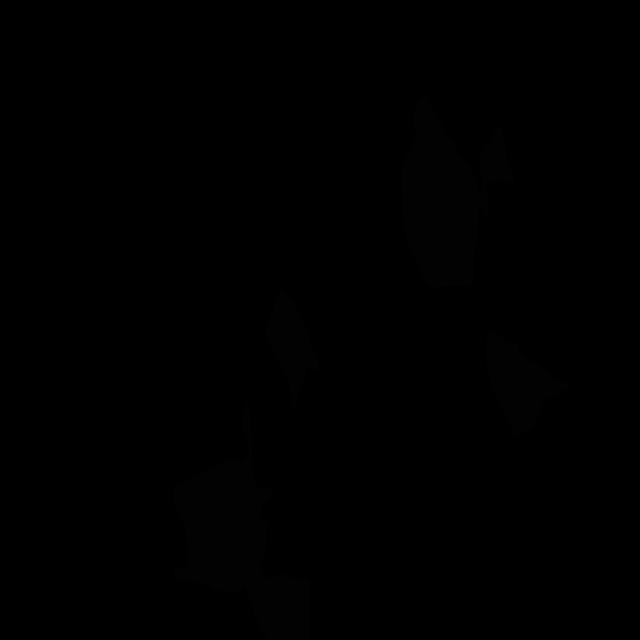cardboard: (173, 399, 310, 640), (401, 93, 479, 288), (486, 330, 572, 437), (264, 288, 319, 411), (479, 125, 515, 221)
